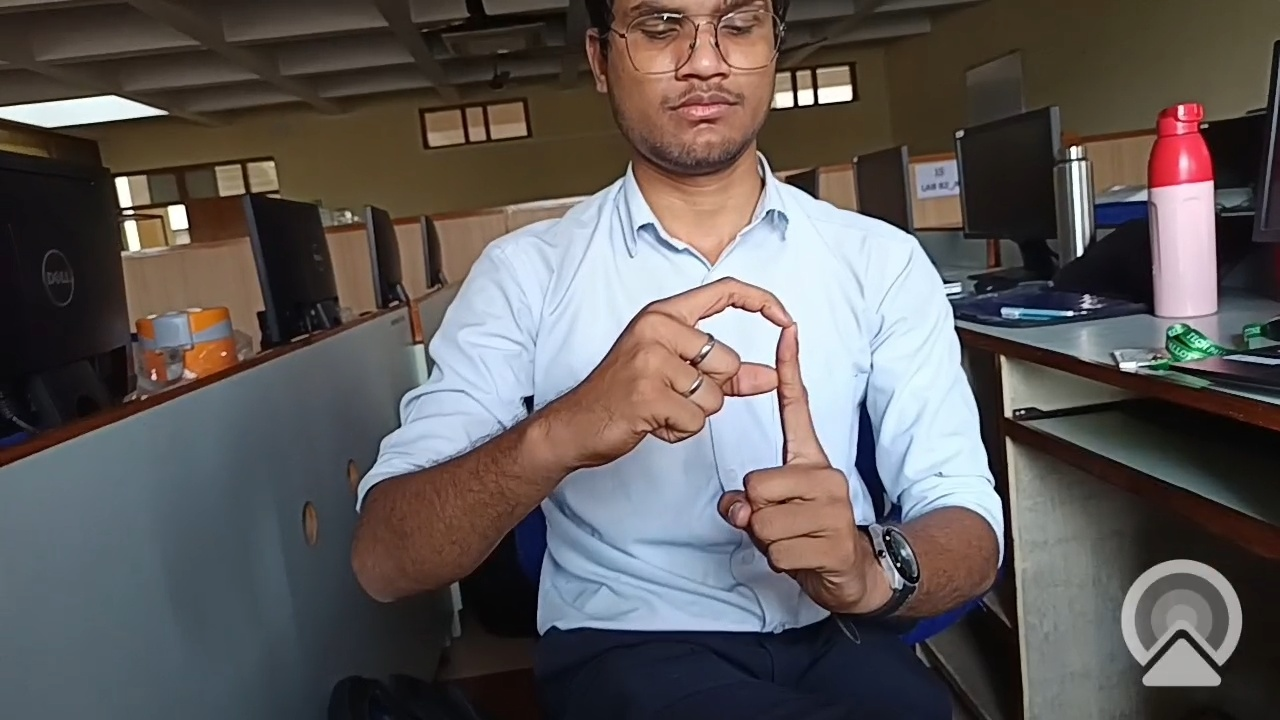P: (542, 255, 875, 623)
